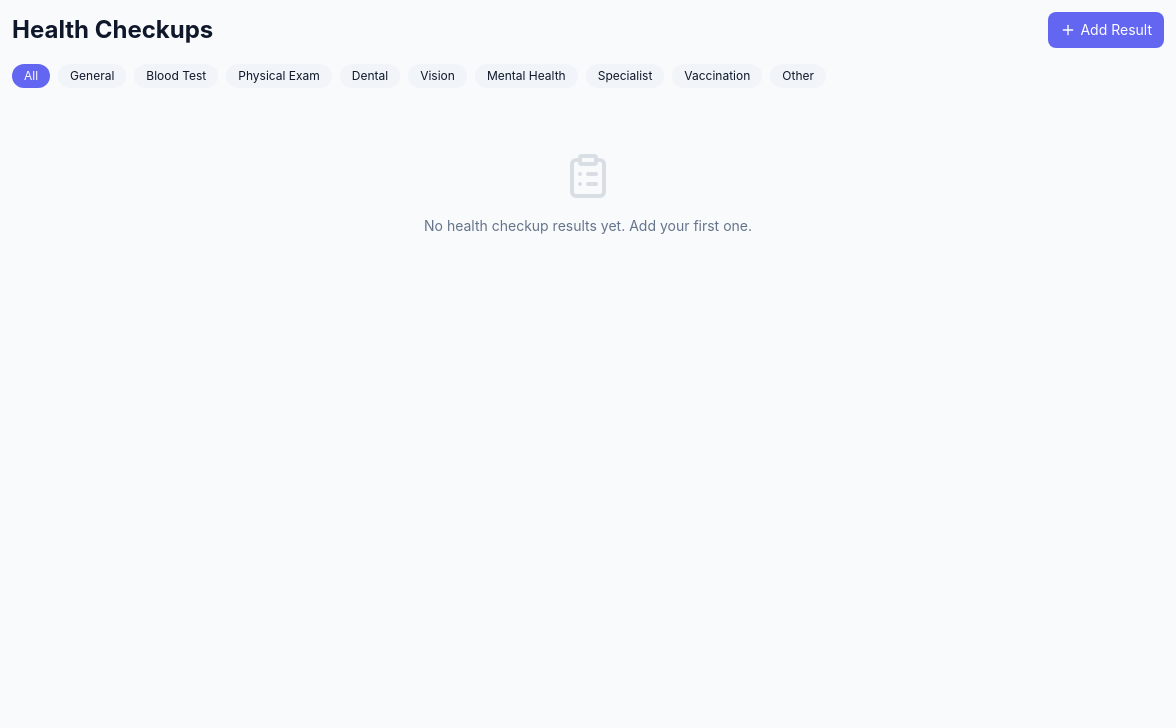
Test: Checkups › shows form when Add Result clicked
The image size is (1176, 728).
Click the button "Add Result" at (1106, 30), box [1048,12,1164,48]
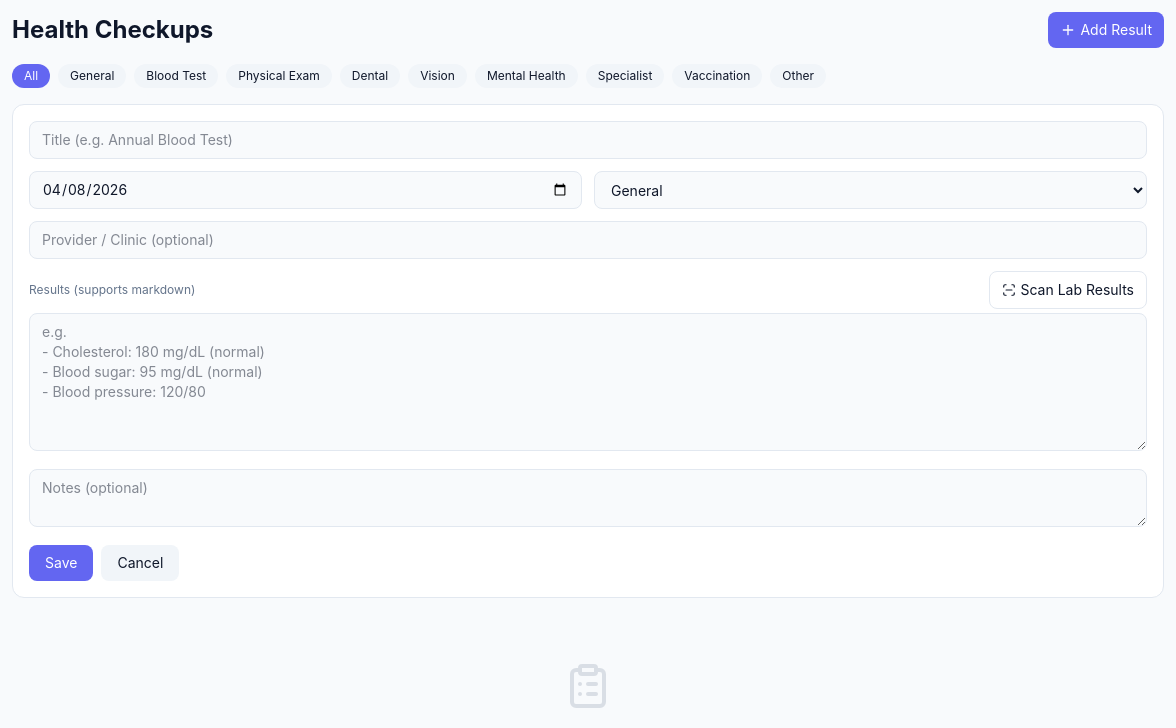
Now the field with placeholder "Title (e.g. Annual Blood Test)" is shown, box [29,121,1147,159]
Now the button "Save" is shown, box [29,545,93,581]
